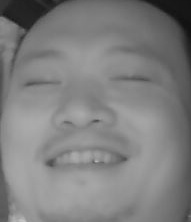blink: (109, 66, 149, 89), (23, 72, 59, 95)
mouth: (42, 137, 126, 180)
